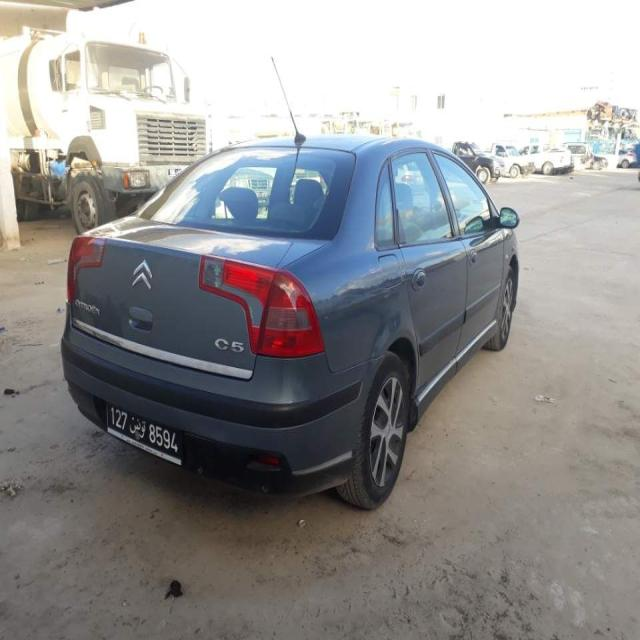LP: (104, 398, 182, 462)
